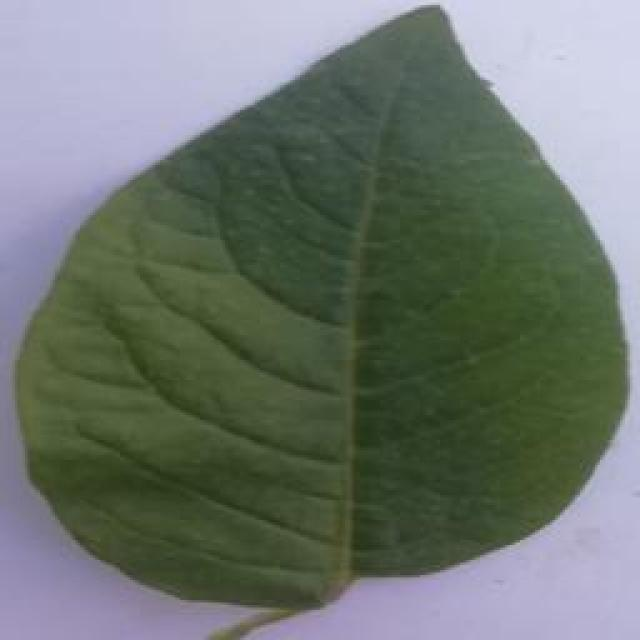Potato_Healthy: (16, 3, 617, 625)
